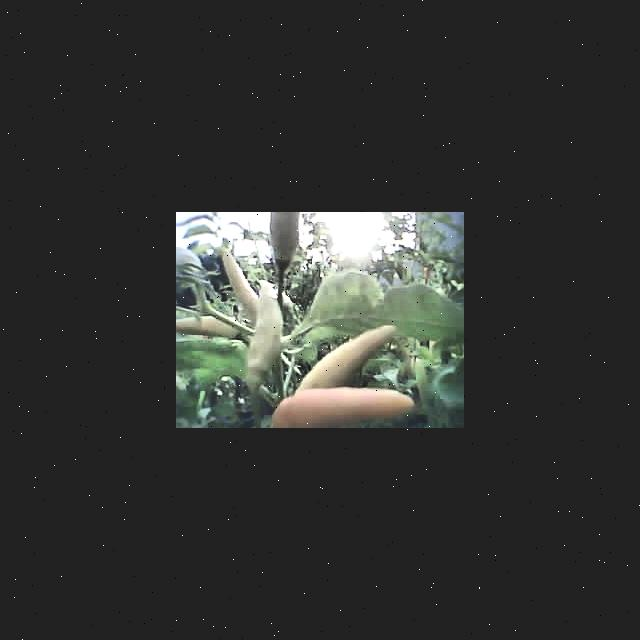Cabai: (264, 388, 422, 428)
